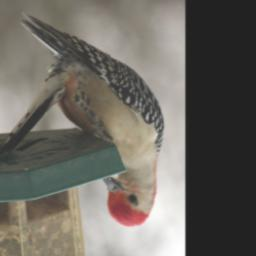Woodpecker: (16, 5, 163, 227)
